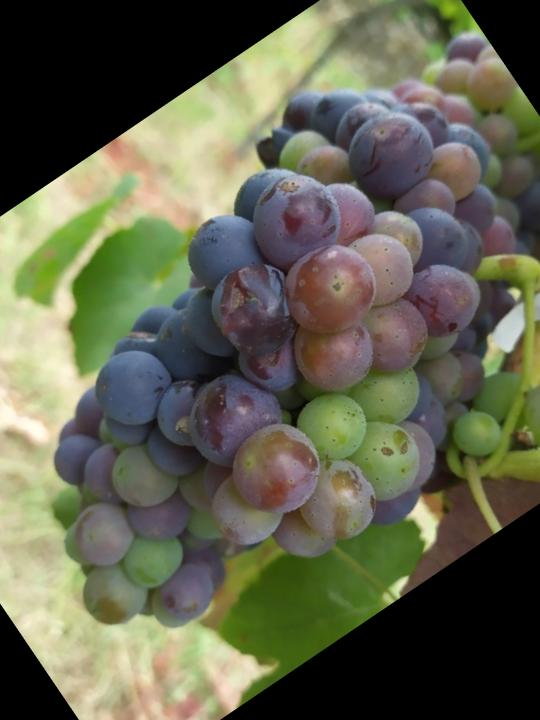grape: (0, 51, 540, 699)
